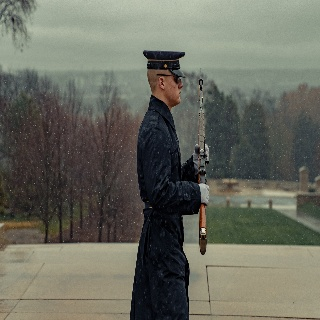rifle: (192, 67, 211, 256)
